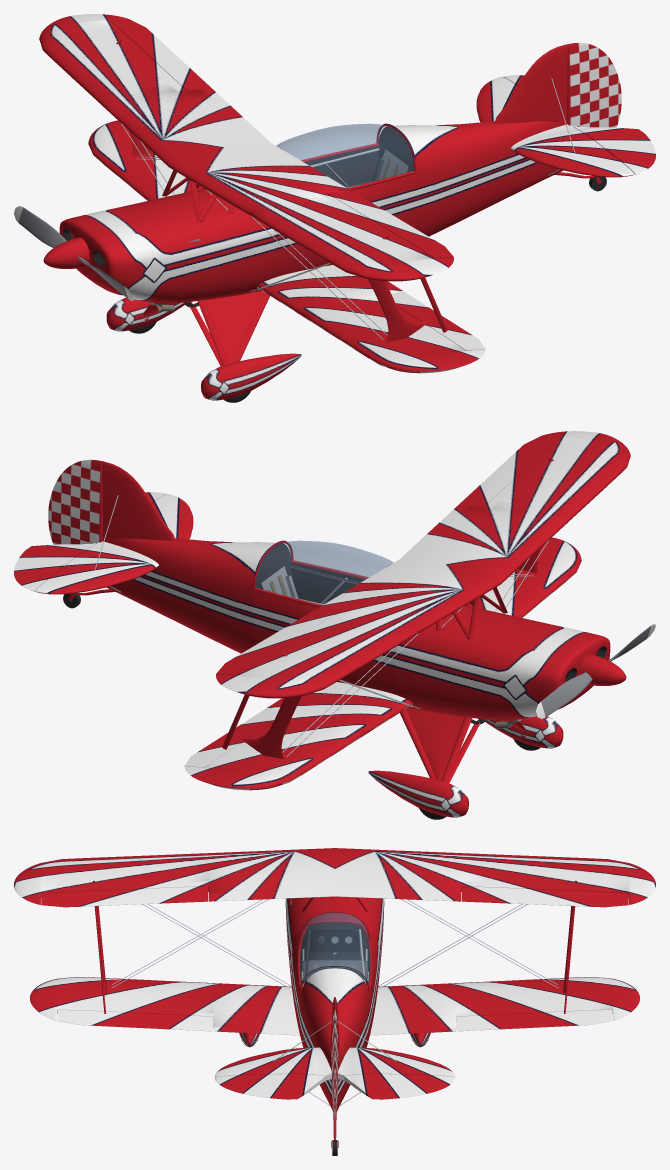
Rendered from pitts-s2b-like-own-checker-unmarked.glb.
3 views of the same model, one above another, from view 1: azimuth 30°, elevation 25°; view 2: azimuth 150°, elevation 25°; view 3: azimuth 270°, elevation 25° (orthographic). The views are drawn at different scales.
Parts seen in each view (by area): view 1: Fuselage_Painted, Wing_Upper, Wing_Lower, Canopy_Glass, Stab, Rudder, Wheel_Pants, Fin, Gear_Fairing, Elevator_L, Aileron_UR, Aileron_UL (+9 smaller); view 2: Fuselage_Painted, Wing_Upper, Wing_Lower, Canopy_Glass, Stab, Rudder, Wheel_Pants, Fin, Gear_Fairing, Elevator_R, Aileron_UL, Aileron_UR (+9 smaller); view 3: Wing_Upper, Wing_Lower, Fuselage_Painted, Stab, Canopy_Glass, Aileron_UL, Aileron_UR, Cockpit, Aileron_LL, Aileron_LR, Elevator_L, Elevator_R (+4 smaller).
Boxes of the visible parts, <box> form: Fuselage_Painted: <box>59,120,567,303</box>; Wing_Upper: <box>39,14,453,281</box>; Wing_Lower: <box>88,120,485,373</box>; Canopy_Glass: <box>276,123,413,187</box>; Stab: <box>476,77,634,177</box>; Rudder: <box>567,42,621,127</box>; Wheel_Pants: <box>106,297,301,400</box>; Fin: <box>494,44,568,123</box>; Gear_Fairing: <box>152,291,263,363</box>; Elevator_L: <box>574,126,655,174</box>; Aileron_UR: <box>110,19,211,90</box>; Aileron_UL: <box>327,191,453,257</box>; Fuselage_Painted: <box>102,537,610,720</box>; Wing_Upper: <box>216,431,630,698</box>; Wing_Lower: <box>184,537,581,790</box>; Canopy_Glass: <box>256,540,393,604</box>; Stab: <box>35,494,193,594</box>; Rudder: <box>48,459,102,544</box>; Wheel_Pants: <box>368,716,563,817</box>; Fin: <box>101,461,175,540</box>; Gear_Fairing: <box>406,708,517,780</box>; Elevator_R: <box>14,543,95,591</box>; Aileron_UL: <box>458,436,559,507</box>; Aileron_UR: <box>216,608,342,674</box>; Wing_Upper: <box>14,848,655,904</box>; Wing_Lower: <box>30,977,639,1035</box>; Fuselage_Painted: <box>285,896,384,1112</box>; Stab: <box>215,1047,454,1080</box>; Canopy_Glass: <box>299,912,370,984</box>; Aileron_UL: <box>41,886,207,907</box>; Aileron_UR: <box>462,886,628,907</box>; Cockpit: <box>301,928,368,987</box>; Aileron_LL: <box>57,1010,213,1031</box>; Aileron_LR: <box>456,1010,612,1031</box>; Elevator_L: <box>215,1074,326,1099</box>; Elevator_R: <box>343,1074,454,1099</box>.
Bounding box in the file's own units: 5.72 × 2.18 × 6.09.
Materials: 30 (8 with a texture image).
